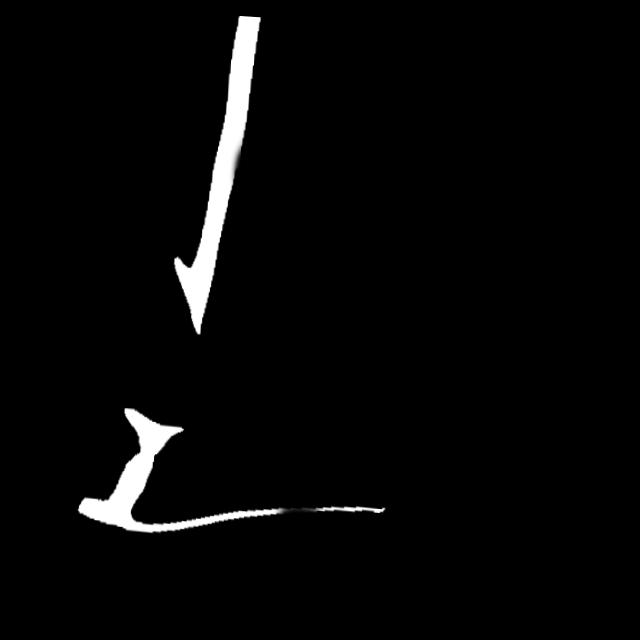inf: (280, 489, 322, 523)
